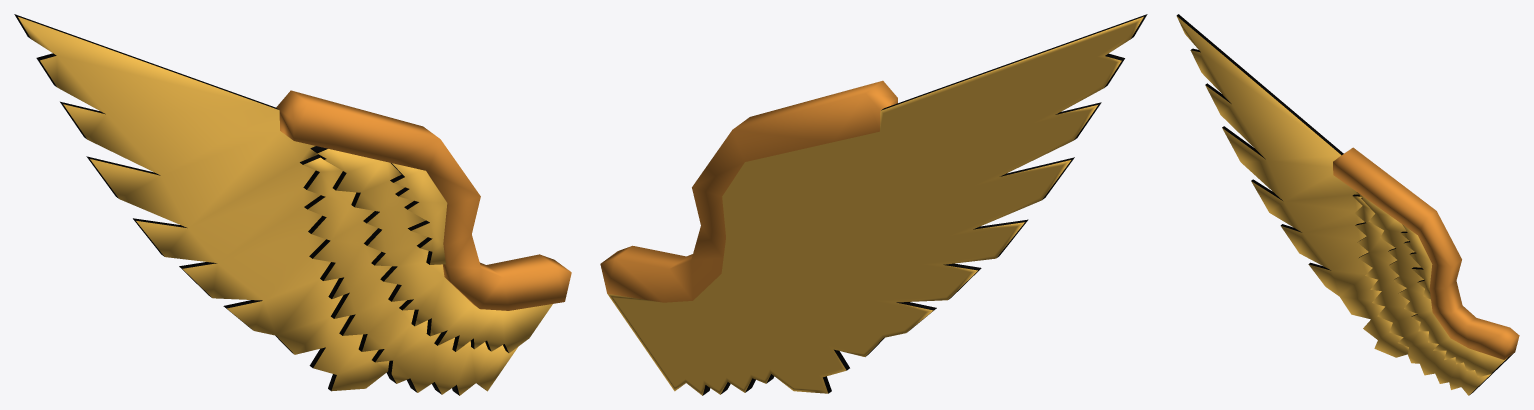
Rendered from AngelAla.obj.
The picture shows the model from 3 angles, left to right: view 1: azimuth 30°, elevation 25°; view 2: azimuth 150°, elevation 25°; view 3: azimuth 330°, elevation 25°; orthographic projection. The views are drawn at different scales.
Parts seen in each view (by area): view 1: Plane.004; view 2: Plane.004; view 3: Plane.004.
Boxes of the visible parts, <box> form: Plane.004: <box>14,14,571,395</box>; Plane.004: <box>600,14,1147,395</box>; Plane.004: <box>1176,14,1519,395</box>.
Bounding box in the file's own units: 8.97 × 7.72 × 0.5.
